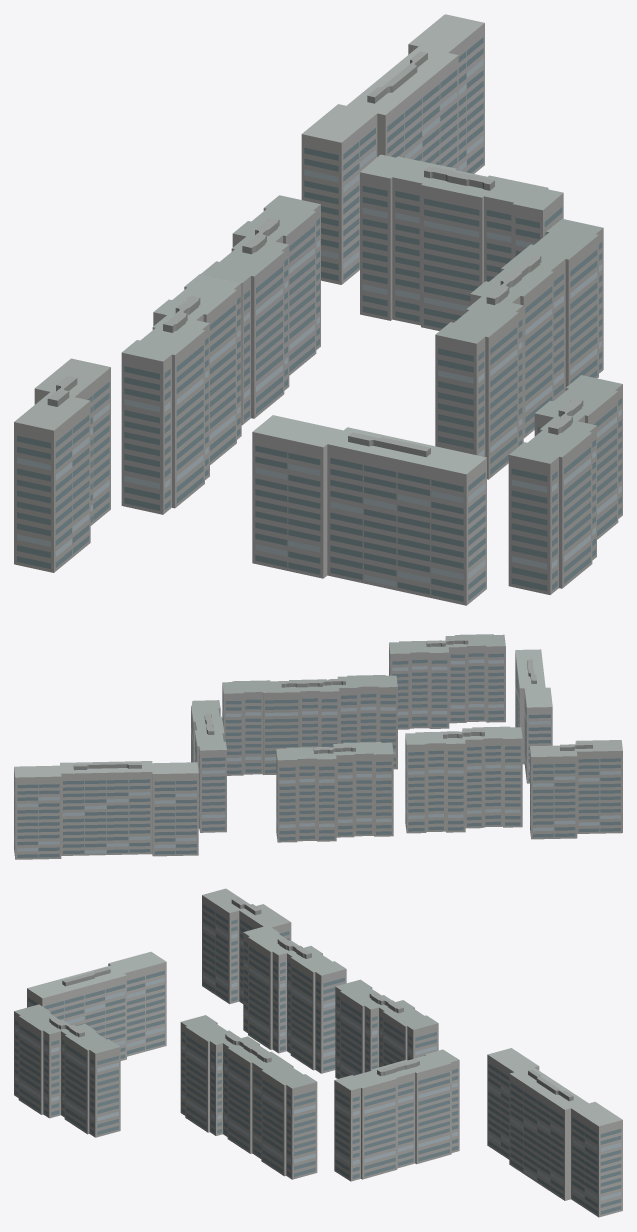
Rendered from apt-a13820004.glb.
3 views of the same model, one above another, from view 1: azimuth 30°, elevation 25°; view 2: azimuth 150°, elevation 25°; view 3: azimuth 270°, elevation 25° (orthographic). The views are drawn at different scales.
Parts seen in each view (by area): view 1: apt-a13820004; view 2: apt-a13820004; view 3: apt-a13820004.
Part boxes in pixels (x1,y1,x2,y2): apt-a13820004: (14,14,622,605); apt-a13820004: (14,634,622,859); apt-a13820004: (14,888,622,1217).
Size of the model in its own units: 222 by 44.62 by 240.
